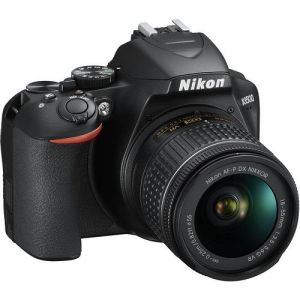kamera: (1, 16, 299, 287)
